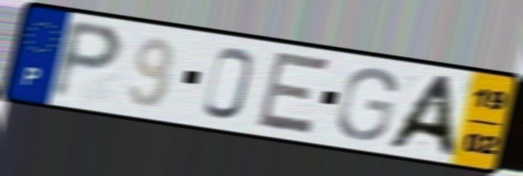0: (201, 46, 258, 121)
9: (127, 34, 182, 111)
A: (380, 72, 462, 160)
E: (252, 48, 335, 137)
G: (333, 66, 400, 143)
P: (47, 15, 128, 103)
